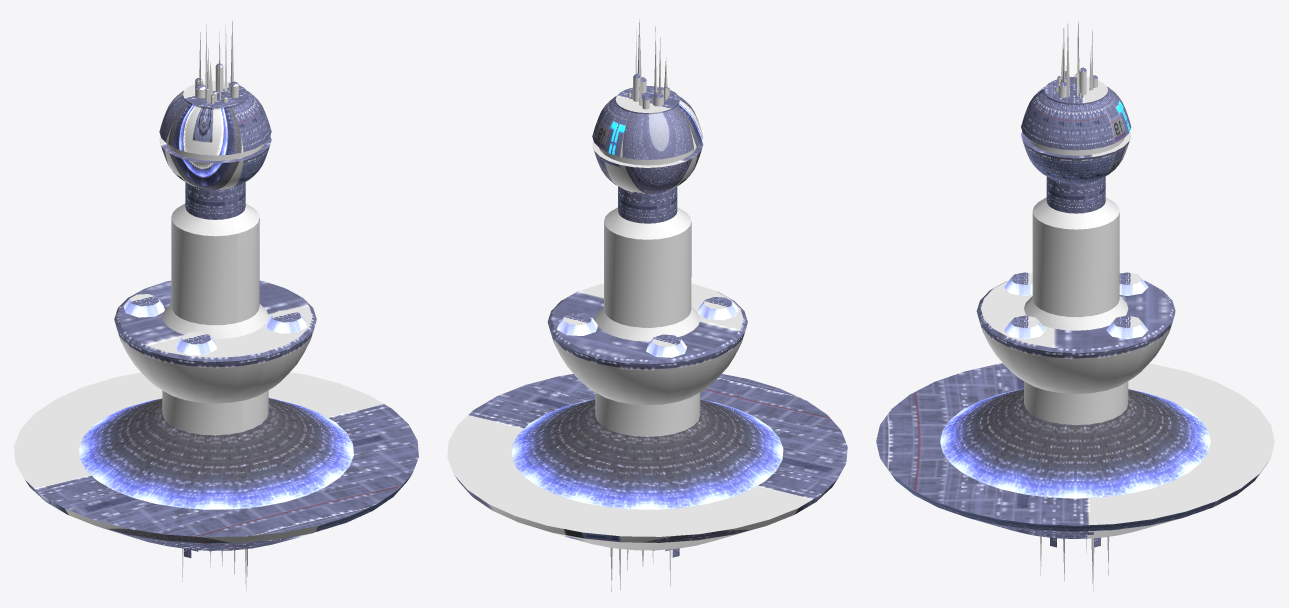
Rendered from Fed_StarBase.fbx.
3 renders of one model, left to right at view 1: azimuth 30°, elevation 25°; view 2: azimuth 150°, elevation 25°; view 3: azimuth 270°, elevation 25°, orthographic.
Visible parts, largest first — view 1: Fed_StarBase; view 2: Fed_StarBase; view 3: Fed_StarBase.
Part boxes in pixels (x1=…): Fed_StarBase: x1=14, y1=19, x2=418, y2=590; Fed_StarBase: x1=447, y1=19, x2=847, y2=591; Fed_StarBase: x1=876, y1=22, x2=1274, y2=591.
Size of the model in its own units: 772 by 1216 by 772.
